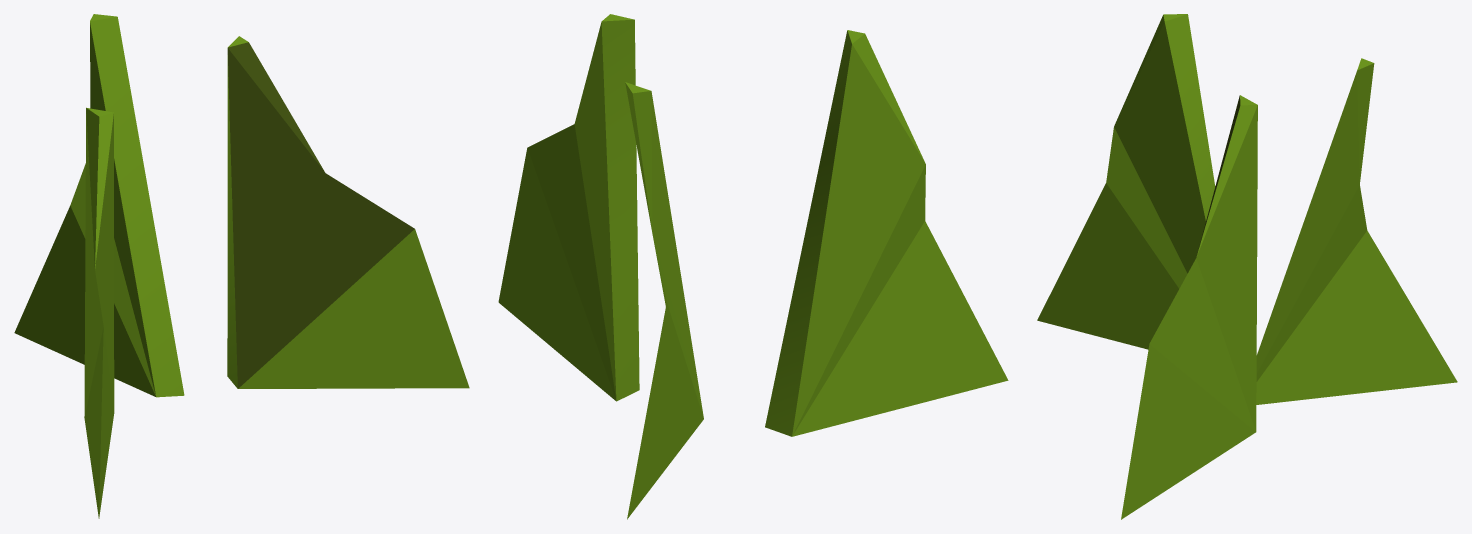
File: Grass_M1.fbx
3 renders of one model, left to right at view 1: azimuth 30°, elevation 25°; view 2: azimuth 150°, elevation 25°; view 3: azimuth 270°, elevation 25°, orthographic. The views are drawn at different scales.
Parts seen in each view (by area): view 1: Grass_M1; view 2: Grass_M1; view 3: Grass_M1.
Part boxes in pixels (x1=…): Grass_M1: x1=14, y1=14, x2=469, y2=518; Grass_M1: x1=498, y1=14, x2=1008, y2=519; Grass_M1: x1=1037, y1=14, x2=1457, y2=519.
Bounding box in the file's own units: 28.31 × 22.33 × 25.25.
